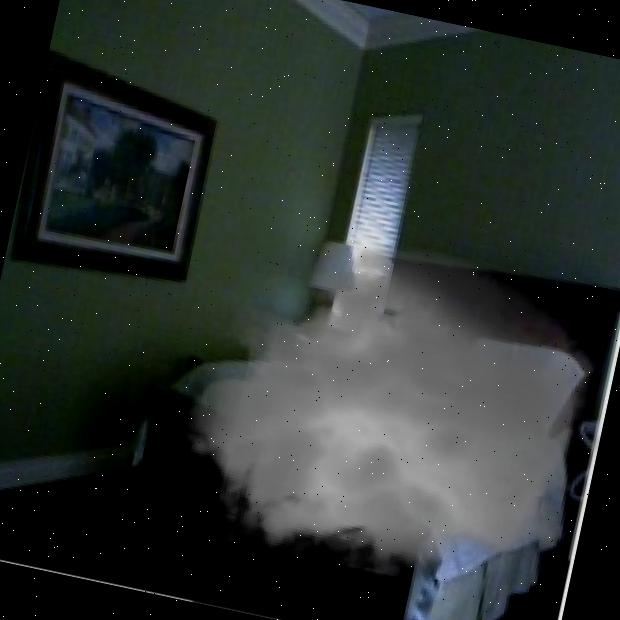smoke: (169, 267, 545, 617)
